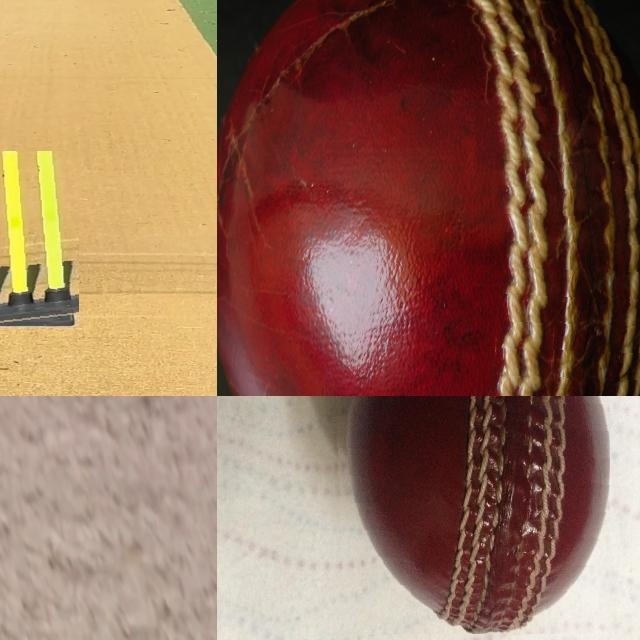Cricket ball: (217, 0, 640, 396), (331, 396, 610, 634)
Stumps: (0, 151, 79, 327)
